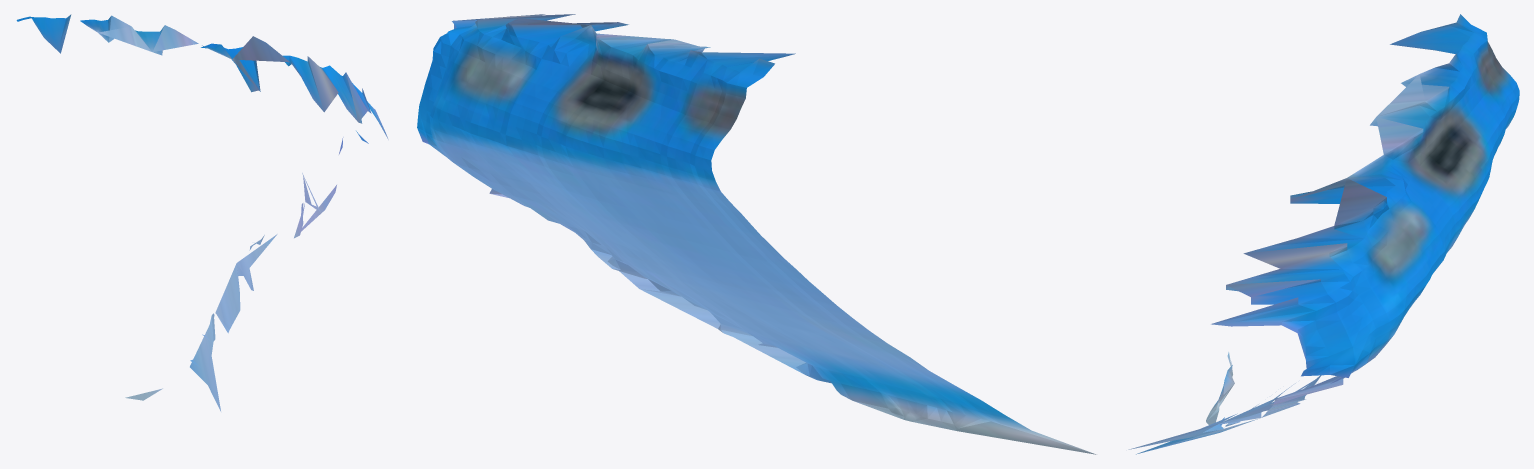
The model's file is observed-surface.glb.
3 renders of one model, left to right at view 1: azimuth 30°, elevation 25°; view 2: azimuth 150°, elevation 25°; view 3: azimuth 270°, elevation 25°, orthographic. The views are drawn at different scales.
Visible parts, largest first — view 1: geometry_0; view 2: geometry_0; view 3: geometry_0.
Part boxes in pixels (x1,y1,x2,y2): geometry_0: [16, 14, 388, 411]; geometry_0: [417, 14, 1096, 454]; geometry_0: [1128, 14, 1519, 454].
Size of the model in its own units: 0.553 by 0.449 by 0.3868.
1 material, 1 textured.
